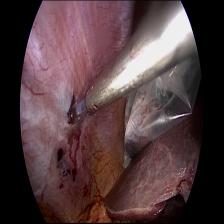Bipolar: (66, 81, 100, 130)
Specimen Bag: (121, 60, 202, 174)
